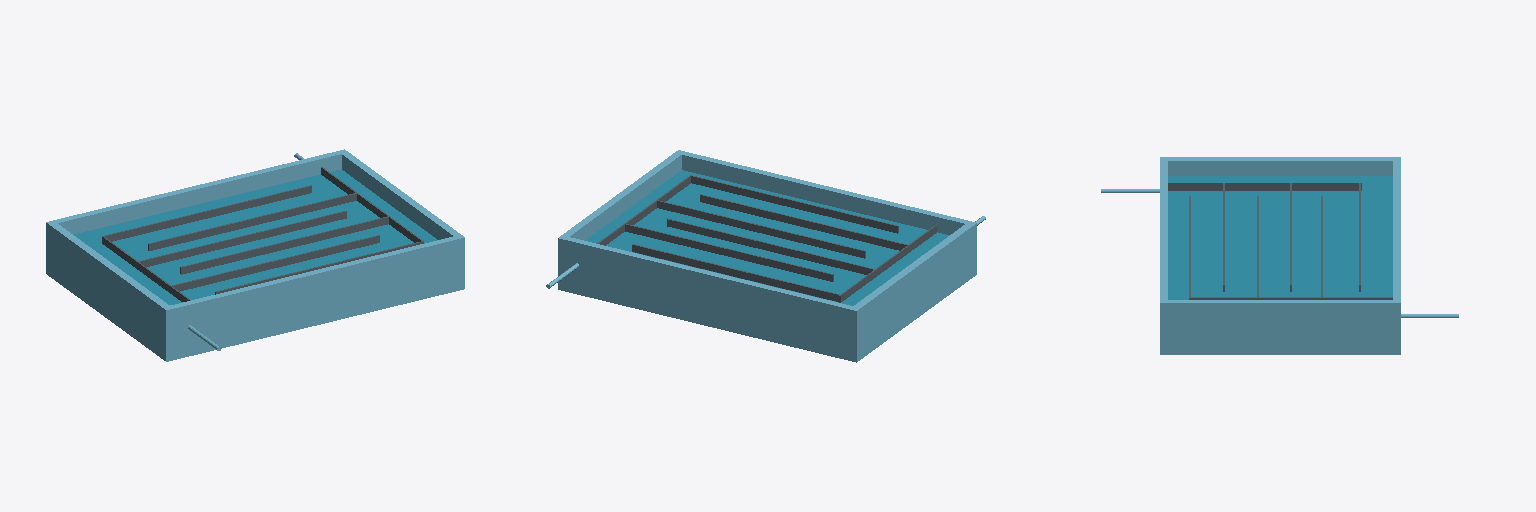
The model's file is regeneration_tank.obj.
The picture shows the model from 3 angles: view 1: azimuth 30°, elevation 25°; view 2: azimuth 150°, elevation 25°; view 3: azimuth 270°, elevation 25°; orthographic projection.
Visible parts, largest first — view 1: ___, ___.2, ___.8, ___.9, ___.12, ___.11, ___.6, ___.7, ___.5, ___.4; view 2: ___, ___.2, ___.9, ___.8, ___.4, ___.12, ___.6, ___.11, ___.5, ___.7; view 3: ___.2, ___, ___.5, ___.7.
Part boxes in pixels (x1,y1,x2,y2): ___: (46,149,464,361); ___.2: (74,169,436,304); ___.8: (180,216,389,274); ___.9: (148,193,356,250); ___.12: (102,185,311,241); ___.11: (138,211,346,266); ___.6: (172,235,379,291); ___.7: (321,167,422,242); ___.5: (102,237,190,301); ___.4: (215,241,423,294); ___: (558,150,976,362); ___.2: (585,170,949,305); ___.9: (625,224,833,281); ___.8: (657,200,865,258); ___.4: (690,175,898,233); ___.12: (632,244,839,301); ___.6: (700,194,908,250); ___.11: (667,218,876,274); ___.5: (839,225,936,302); ___.7: (597,176,690,245); ___.2: (1168,176,1392,299); ___: (1160,157,1400,354); ___.5: (1168,183,1361,190); ___.7: (1191,297,1392,299).
Size of the model in its own units: 6022 by 995 by 6264.